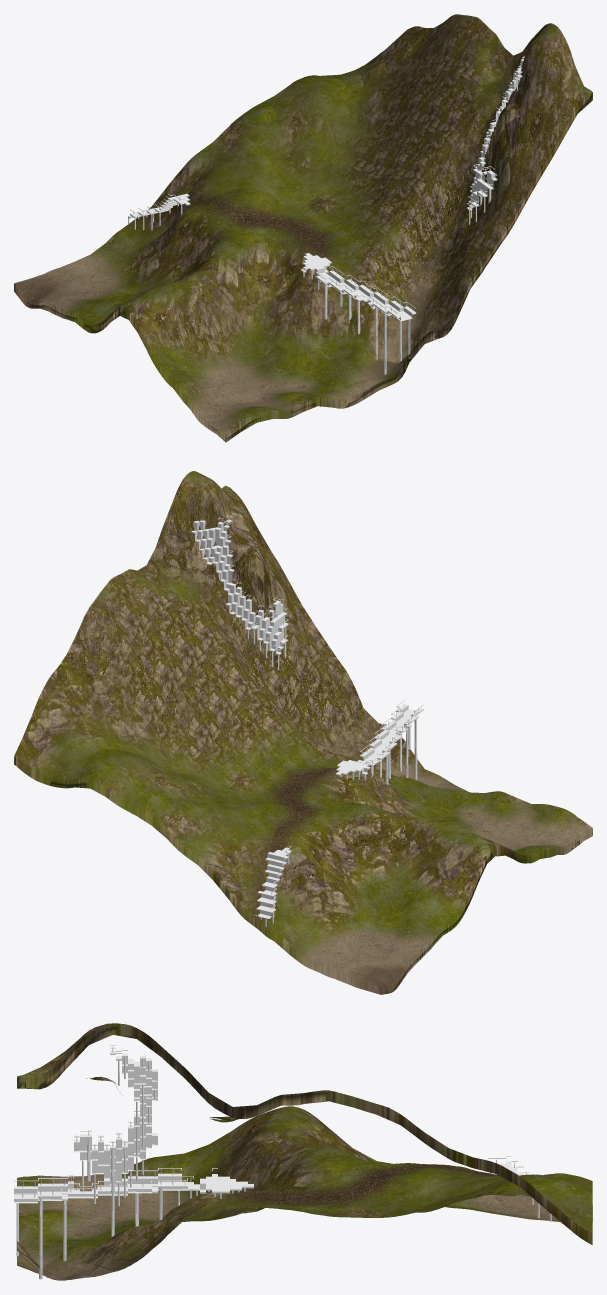
Rendered from chunk_1_3.glb.
3 renders of one model, top to bottom at view 1: azimuth 30°, elevation 25°; view 2: azimuth 150°, elevation 25°; view 3: azimuth 270°, elevation 25°, orthographic. The views are drawn at different scales.
Visible parts, largest first — view 1: Terrain_L2, Terrain_L0, Terrain_L1, Buildings_L0, Buildings_L1; view 2: Terrain_L2, Terrain_L0, Terrain_L1, Buildings_L0, Buildings_L1; view 3: Terrain_L0, Terrain_L2, Terrain_L1, Buildings_L0, Buildings_L1.
Boxes of the visible parts, left/top/right/bottom form: Terrain_L2: left=14, top=15, right=592, bottom=439; Terrain_L0: left=14, top=14, right=592, bottom=442; Terrain_L1: left=14, top=16, right=591, bottom=442; Buildings_L0: left=128, top=56, right=524, bottom=374; Buildings_L1: left=130, top=57, right=523, bottom=374; Terrain_L2: left=14, top=483, right=592, bottom=994; Terrain_L0: left=14, top=471, right=592, bottom=994; Terrain_L1: left=20, top=472, right=592, bottom=994; Buildings_L0: left=191, top=515, right=423, bottom=927; Buildings_L1: left=193, top=521, right=418, bottom=918; Terrain_L0: left=17, top=1023, right=592, bottom=1280; Terrain_L2: left=17, top=1027, right=592, bottom=1278; Terrain_L1: left=17, top=1024, right=592, bottom=1280; Buildings_L0: left=14, top=1045, right=592, bottom=1279; Buildings_L1: left=14, top=1053, right=537, bottom=1278.
Bounding box in the file's own units: 96 × 77.54 × 96.54.
2 materials, 1 textured.
